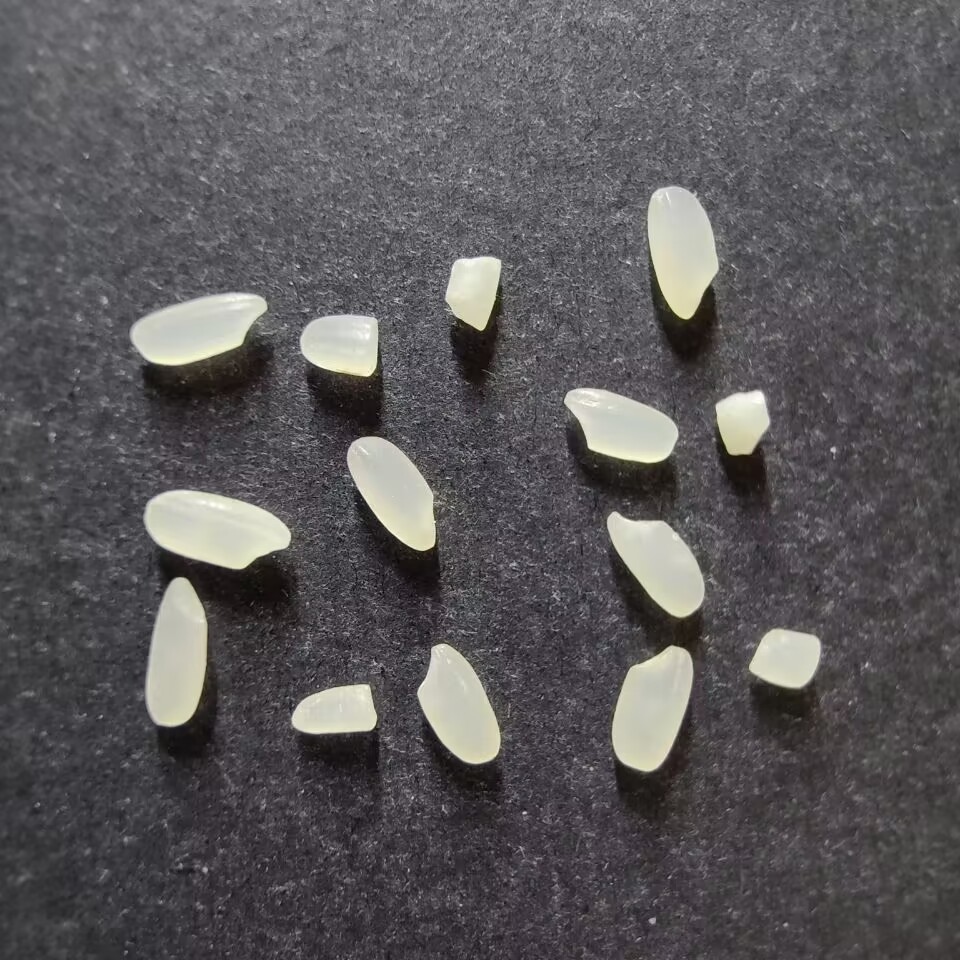broken: (299, 314, 379, 377), (290, 684, 377, 735), (444, 255, 501, 332), (748, 628, 821, 687), (714, 391, 770, 455)
rice: (143, 489, 291, 569), (605, 511, 705, 618), (610, 645, 693, 772), (346, 435, 436, 552), (416, 643, 501, 765), (646, 185, 720, 320), (130, 293, 267, 365), (145, 576, 206, 726), (562, 387, 679, 464)
